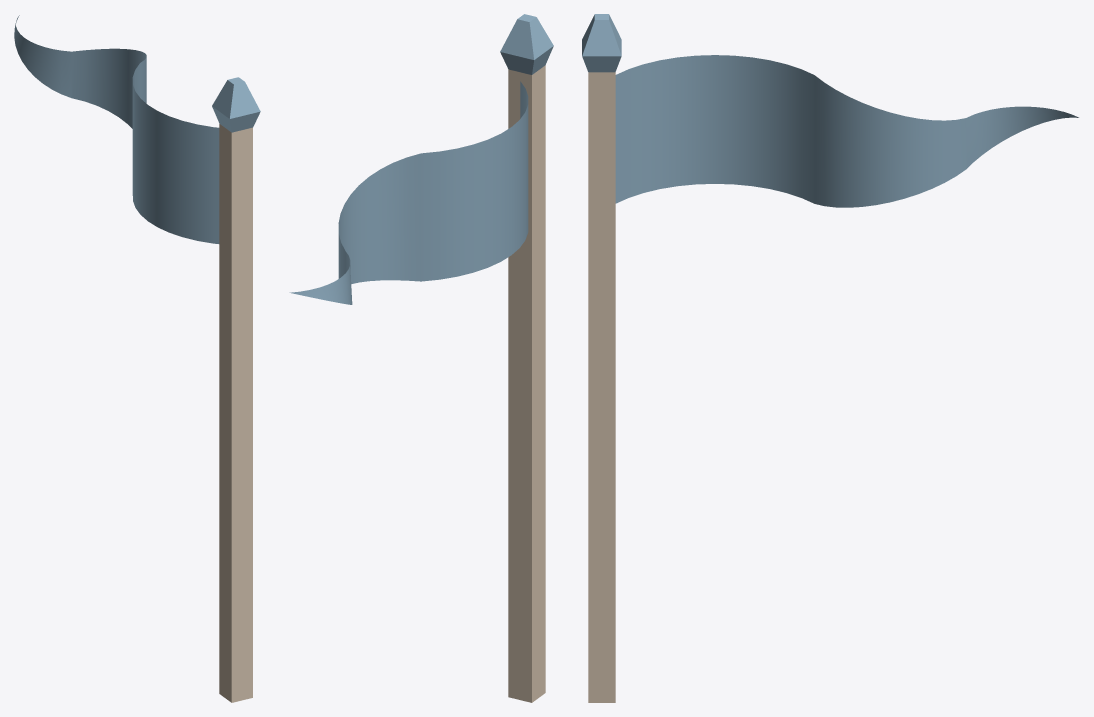
The model's file is flagBlue.glb.
3 renders of one model, left to right at view 1: azimuth 30°, elevation 25°; view 2: azimuth 150°, elevation 25°; view 3: azimuth 270°, elevation 25°, orthographic. The views are drawn at different scales.
Parts seen in each view (by area): view 1: flagBlue; view 2: flagBlue; view 3: flagBlue.
Boxes of the visible parts, bbox=[...] form: flagBlue: bbox=[14, 15, 260, 702]; flagBlue: bbox=[289, 14, 553, 702]; flagBlue: bbox=[582, 14, 1078, 702].
Size of the model in its own units: 0.8991 by 7.92 by 5.25.
